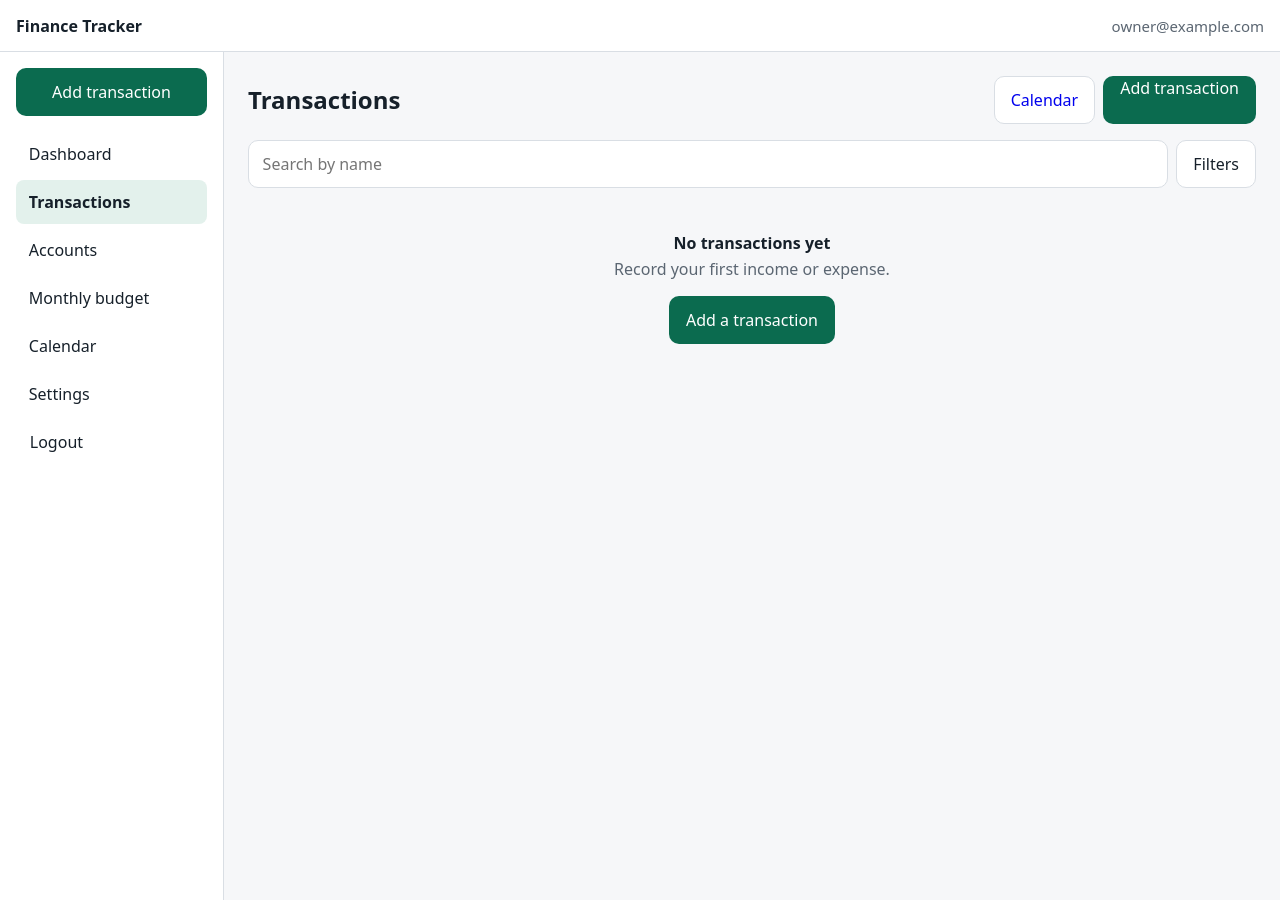
Test case: search › shows a no-match state that clears the filters
Type "zzz" into the search field named "Search transactions".
click(708, 164); type("zzz")  # box x1=248 y1=140 x2=1168 y2=188
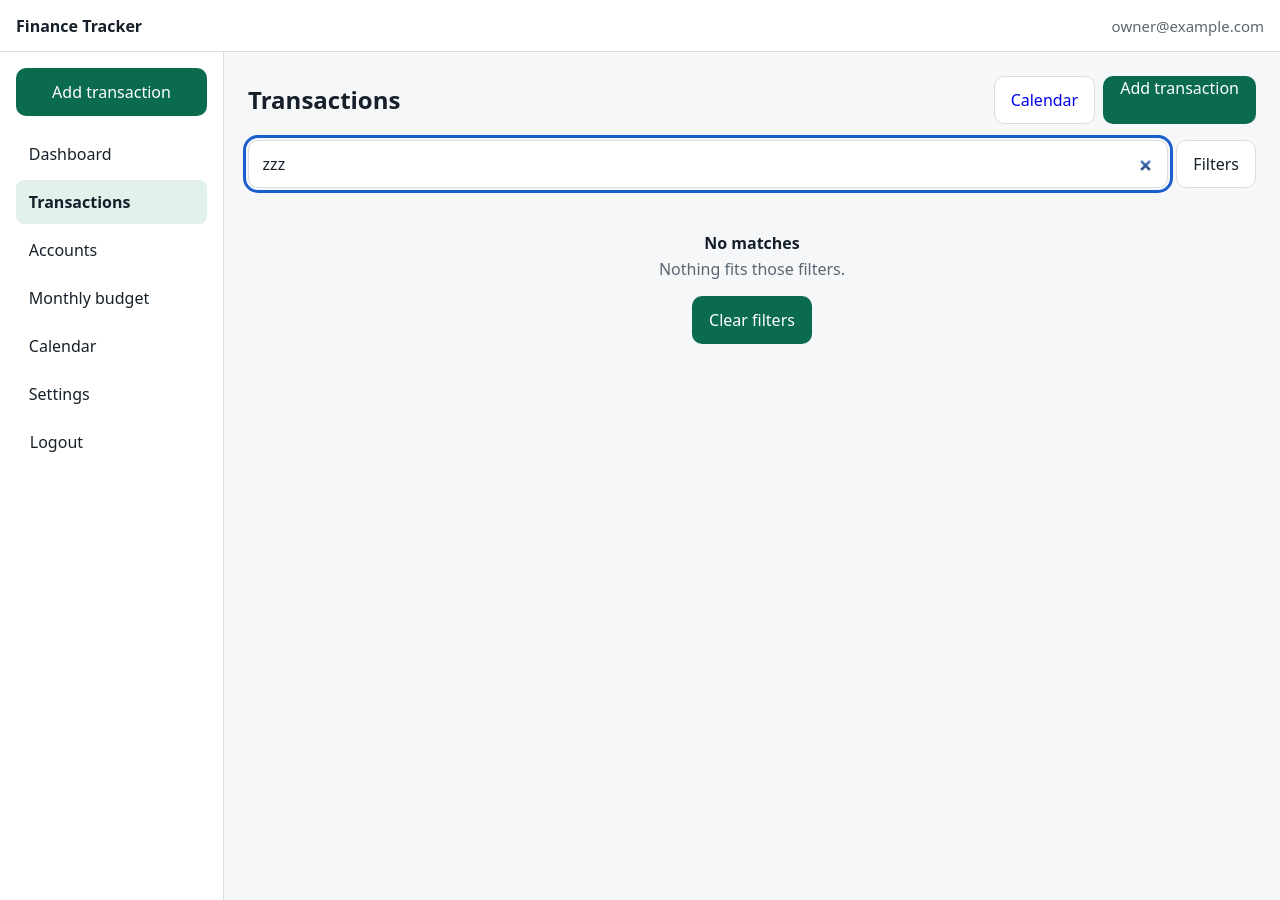
expect the text "No matches" is shown: met, box x1=704 y1=232 x2=800 y2=254
Click the button "Clear filters".
click(752, 320)  # box x1=692 y1=296 x2=812 y2=344
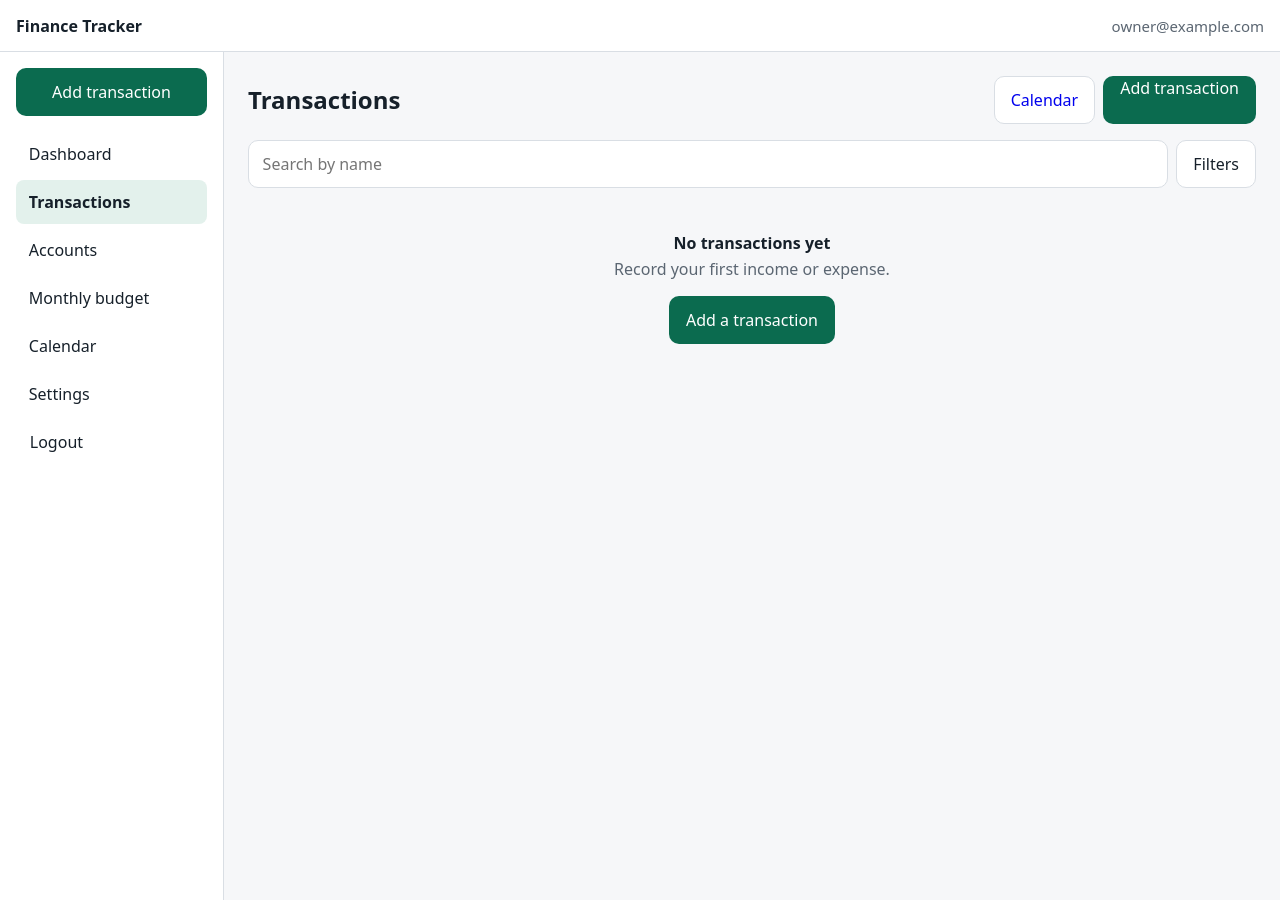
expect the search field named "Search transactions" is empty: met, box x1=248 y1=140 x2=1168 y2=188
